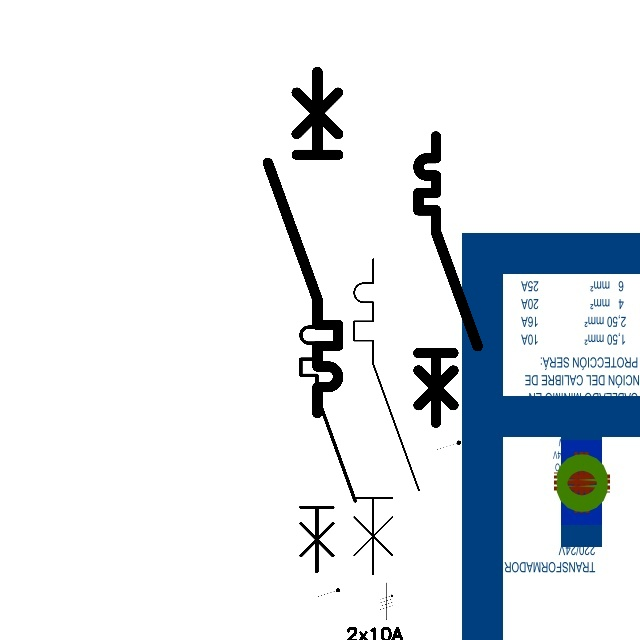interruptor_termomagnetico: (259, 63, 347, 422), (346, 251, 427, 583), (411, 129, 484, 430), (294, 300, 362, 578)
